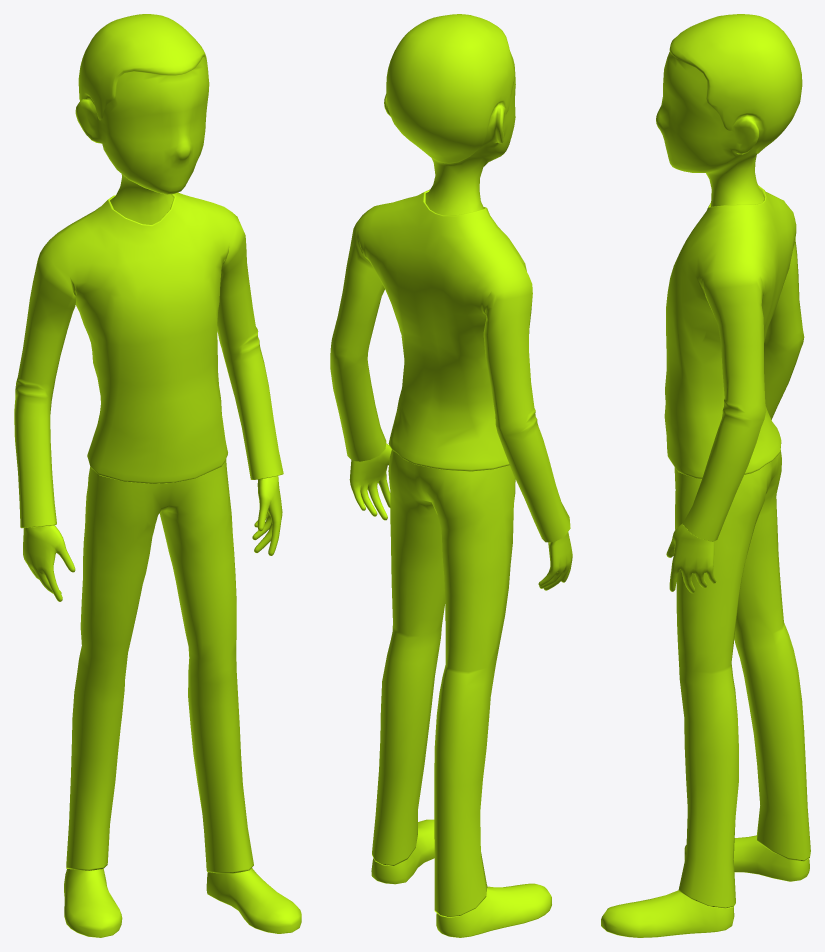
Rendered from vworld_2.glb.
3 renders of one model, left to right at view 1: azimuth 30°, elevation 25°; view 2: azimuth 150°, elevation 25°; view 3: azimuth 270°, elevation 25°, orthographic.
Parts seen in each view (by area): view 1: mesh_id66; view 2: mesh_id66; view 3: mesh_id66.
Boxes of the visible parts, bbox=[...] form: mesh_id66: bbox=[14, 14, 301, 937]; mesh_id66: bbox=[330, 14, 572, 937]; mesh_id66: bbox=[601, 14, 810, 937].
Size of the model in its own units: 0.0874 by 0.3086 by 0.0676.
Materials: 1 (1 with a texture image).
